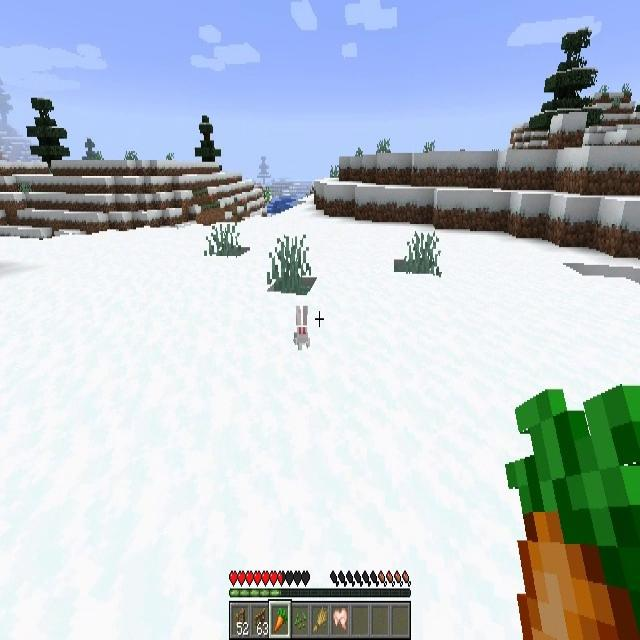rabbit: (292, 305, 312, 349)
